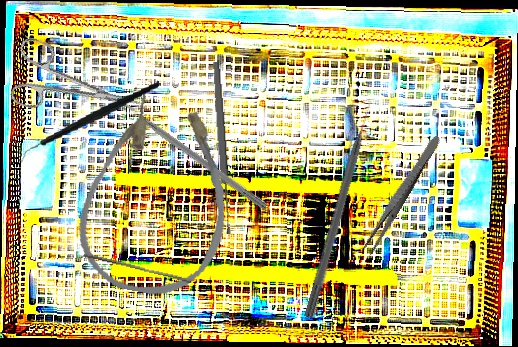Cannula: (66, 82, 249, 306)
Chopper: (13, 80, 167, 165)
Dressing Forceps: (359, 132, 443, 258)
Iris Scissors: (2, 35, 150, 142)
Pusher: (118, 97, 269, 211), (303, 99, 378, 320), (82, 252, 193, 284)
Surgical Spoon: (211, 61, 233, 235)
